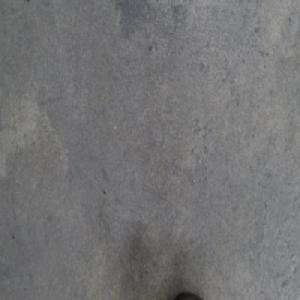AdjustableWrench: (174, 291, 203, 299)
